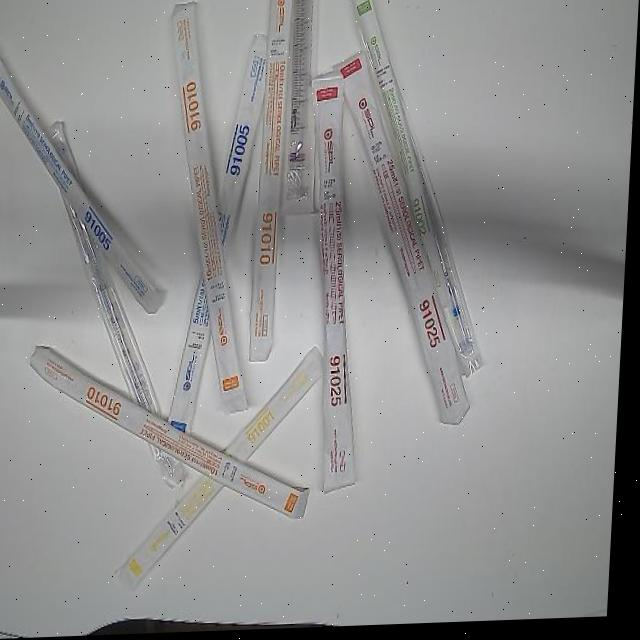Serelogical Pipet 1 mL: (118, 344, 336, 599)
Serelogical Pipet 10 mL: (26, 335, 324, 532), (152, 0, 274, 419), (251, 0, 295, 368)
Serelogical Pipet 2 mL: (337, 0, 473, 314)
Serelogical Pipet 25 mL: (318, 47, 494, 435), (295, 73, 384, 498)
Serelogical Pipet 5 mL: (33, 113, 208, 494), (0, 47, 181, 323), (168, 34, 278, 446), (392, 81, 503, 386)
Serelogical Pipet 50 mL: (284, 0, 327, 216)
